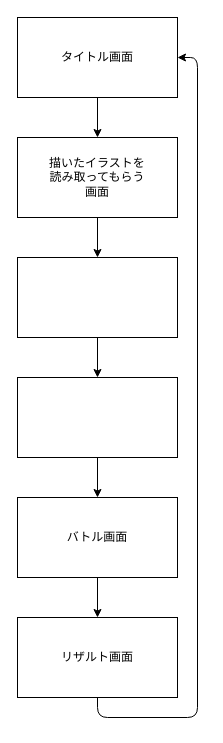
The diagram is 223 pixels wide and 743 high, and some of its shapes have lost their labels. Here are the shapes that lost their labels. From the top down, the centre of each, then its label:
the point at 97,297: チュートリアル画面
the point at 97,417: マッチング画面 兼 プレイヤー待機画面 (AIの生成時間もこの画面)
